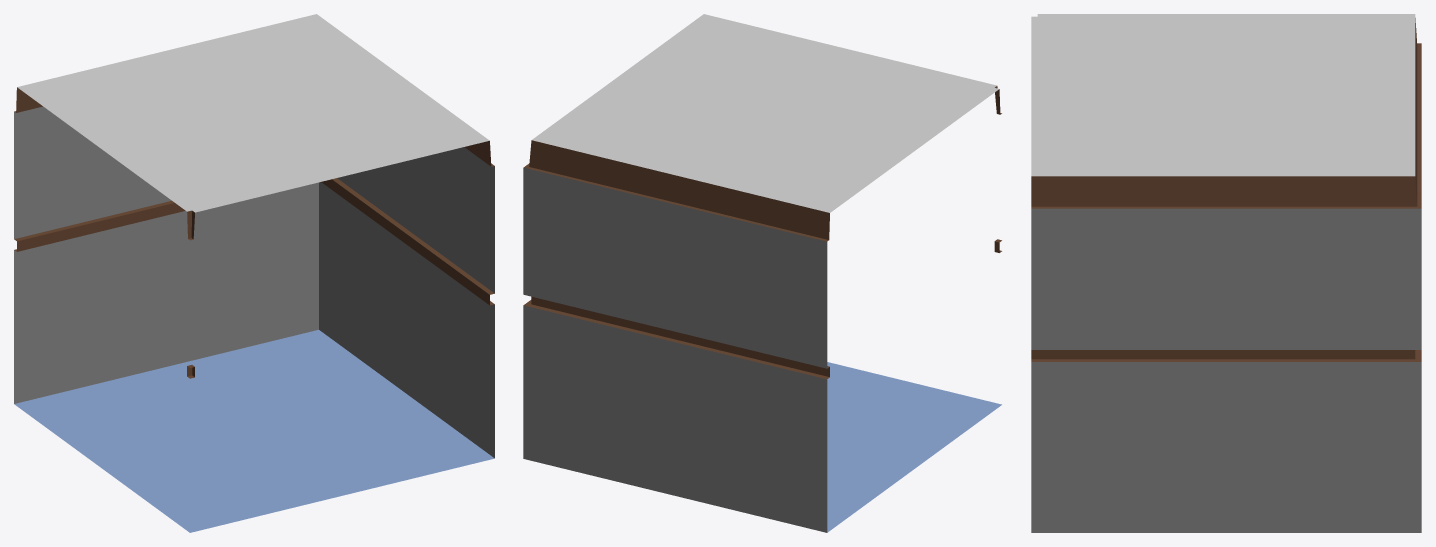
The model's file is hall_cor.fbx.
The picture shows the model from 3 angles, left to right: view 1: azimuth 30°, elevation 25°; view 2: azimuth 150°, elevation 25°; view 3: azimuth 270°, elevation 25°; orthographic projection. The views are drawn at different scales.
Parts seen in each view (by area): view 1: hall_cor; view 2: hall_cor; view 3: hall_cor.
Boxes of the visible parts, bbox=[...] form: hall_cor: bbox=[14, 14, 494, 532]; hall_cor: bbox=[523, 14, 1001, 532]; hall_cor: bbox=[1031, 14, 1421, 532].
Size of the model in its own units: 118 by 118 by 118.
